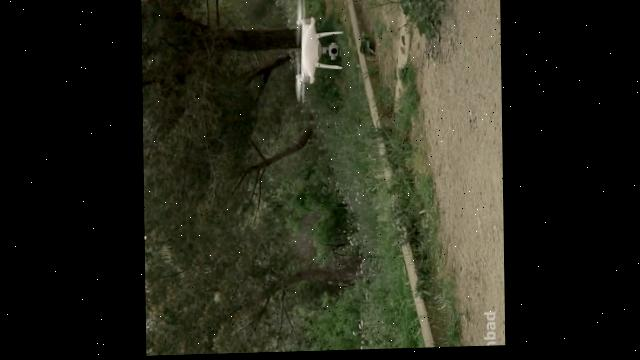drone: (292, 0, 344, 111)
